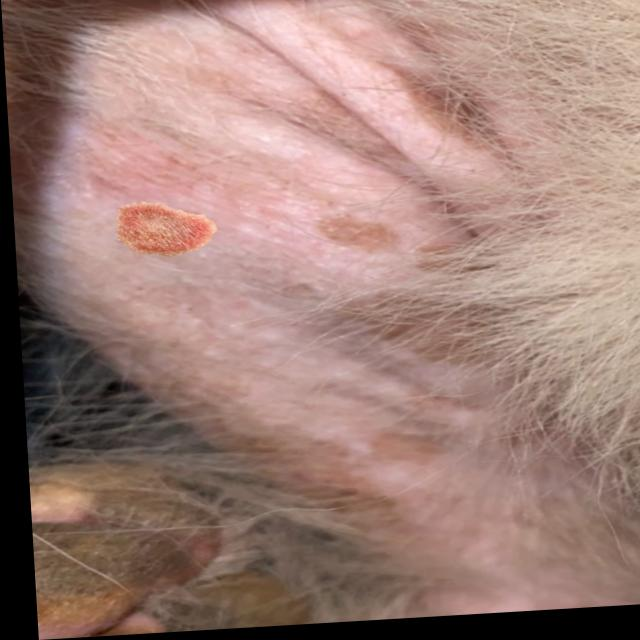ringworm: (101, 182, 233, 272)
